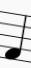F: (4, 8, 27, 64)
